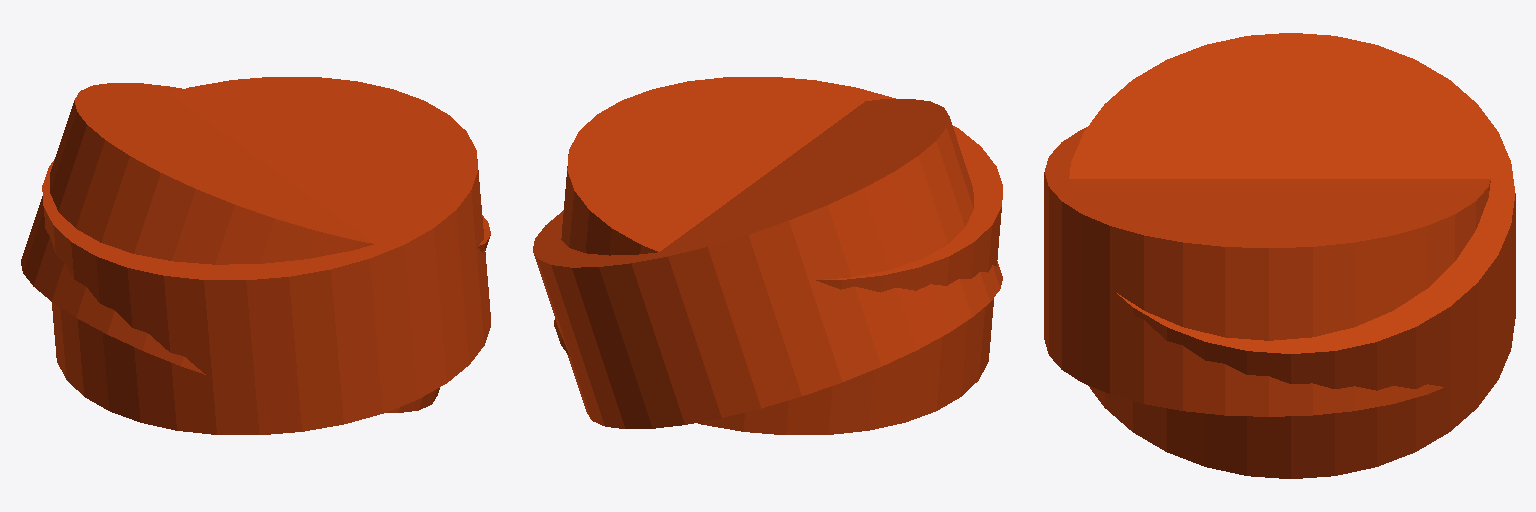
robot.urdf — piper_camera:
<?xml version="1.0"?>
<robot xmlns:xacro="http://www.ros.org/wiki/xacro" name="piper_camera">
    <mujoco>
    <compiler balanceinertia="true" discardvisual="false" meshdir="[local-path]/sim1_ws/src/piper_ros/src/piper_description/meshes"/>
    </mujoco>
    <link name="base_link">
        <inertial>
        <origin
            xyz="-0.00979274765955341 1.82905827587138E-06 0.0410100126360189"
            rpy="0 0 0" />
        <mass value="0.162548567403693" />
        <inertia
            ixx="0.000226596924525071"
            ixy="-7.33972270153965E-08"
            ixz="2.13249977802622E-06"
            iyy="0.000269444772561524"
            iyz="8.15169009611054E-09"
            izz="0.000222318258878636" />
        </inertial>
        <visual>
        <origin xyz="0 0 0" rpy="0 0 0" />
        <geometry>
            <mesh filename="package://piper_description/meshes/dae/base_link.dae" />
        </geometry>
        <material name="">
            <color rgba="0.792156862745098 0.819607843137255 0.933333333333333 1" />
        </material>
        </visual>
        <collision>
            <origin xyz="0 0 0" rpy="0 0 0" />
            <geometry>
                <mesh filename="package://piper_description/meshes/base_link.STL" />
            </geometry>
        </collision>
    </link>

    <link name="link1">
        <inertial>
        <origin
            xyz="0.00131676031927024 0.000310288842008612 -0.00922874512303437"
            rpy="0 0 0" />
        <mass value="0.0978679932242825" />
        <inertia
            ixx="7.76684558296782E-05"
            ixy="1.09084650459924E-07"
            ixz="-1.9748053243241E-06"
            iyy="9.24967780161547E-05"
            iyz="9.91284646834582E-07"
            izz="8.24589062407807E-05" />
        </inertial>
        <visual>
        <origin xyz="0 0 0" rpy="0 0 0" />
        <geometry>
            <mesh filename="package://piper_description/meshes/dae/link1.dae" />
        </geometry>
        <material name="">
            <color rgba="0.792156862745098 0.819607843137255 0.933333333333333 1" />
        </material>
        </visual>
        <collision>
            <origin xyz="0 0 0" rpy="0 0 1.5708" />
            <geometry>
                <mesh filename="package://piper_description/meshes/link1.STL" />
            </geometry>
        </collision>
    </link>
    <joint name="joint1" type="revolute">
        <origin xyz="0 0 0.123" rpy="0 0 -1.5708" />
        <parent link="base_link" />
        <child link="link1" />
        <axis xyz="0 0 1" />
        <limit lower="-2.618" upper="2.618" effort="100" velocity="3" />
    </joint>

    <link name="link2">
        <inertial>
        <origin
            xyz="0.148793602378802 -0.00242026983944119 0.00175154638467948"
            rpy="0 0 0" />
        <mass value="0.290888938633388" />
        <inertia
            ixx="0.000148959640166183"
            ixy="-7.37750384371657E-05"
            ixz="-9.68688405196236E-07"
            iyy="0.00172800946632652"
            iyz="-1.09692225564224E-06"
            izz="0.0017754628344594" />
        </inertial>
        <visual>
        <origin xyz="0 0 0" rpy="0 0 0" />
        <geometry>
            <mesh filename="package://piper_description/meshes/dae/link2.dae" />
        </geometry>
        <material name="">
            <color rgba="0.792156862745098 0.819607843137255 0.933333333333333 1" />
        </material>
        </visual>
        <collision>
            <origin xyz="0 0 0" rpy="0 0 0.1" />
            <geometry>
                <mesh filename="package://piper_description/meshes/link2.STL" />
            </geometry>
        </collision>
    </link>
    <joint name="joint2" type="revolute">
        <origin xyz="0 0 0" rpy="1.5708 -0.034907 -1.5708" />
        <parent link="link1" />
        <child link="link2" />
        <axis xyz="0 0 1" />
        <limit lower="0" upper="3.14" effort="100" velocity="3" />
    </joint>

    <link name="link3">
        <inertial>
        <origin
            xyz="-0.0996835215213704 0.0349477226691318 0.000508025815507312"
            rpy="0 0 0" />
        <mass value="0.290847697793211" />
        <inertia
            ixx="0.000107879011637167"
            ixy="2.92669521203626E-05"
            ixz="6.825922326238E-07"
            iyy="0.000214751671792086"
            iyz="-7.78469047878196E-07"
            izz="0.000241923439340319" />
        </inertial>
        <visual>
        <origin xyz="0 0 0" rpy="0 0 0" />
        <geometry>
            <mesh filename="package://piper_description/meshes/dae/link3.dae" />
        </geometry>
        <material name="">
            <color rgba="0.792156862745098 0.819607843137255 0.933333333333333 1" />
        </material>
        </visual>
        <collision>
        <origin xyz="0 0 0" rpy="0 0 -1.75" />
        <geometry>
            <mesh filename="package://piper_description/meshes/link3.STL" />
        </geometry>
        </collision>
    </link>
    <joint name="joint3" type="revolute">
        <origin xyz="0.28358 0.028726 0" rpy="0 0 0.06604341" />
        <parent link="link2" />
        <child link="link3" />
        <axis xyz="0 0 1" />
        <limit lower="-2.697" upper="0" effort="100" velocity="3" />
    </joint>

    <link name="link4">
        <inertial>
        <origin
            xyz="0.000276464622387979 -0.00102803669324875 -0.00472830700561663"
            rpy="0 0 0" />
        <mass value="0.127087348341362" />
        <inertia
            ixx="3.82011730423416E-05"
            ixy="-4.92358350897513E-08"
            ixz="4.89589432973119E-08"
            iyy="4.87048555222578E-05"
            iyz="6.70802942500512E-08"
            izz="4.10592077565559E-05" />
        </inertial>
        <visual>
        <origin xyz="0 0 0" rpy="0 0 0" />
        <geometry>
            <mesh filename="package://piper_description/meshes/dae/link4.dae" />
        </geometry>
        <material name="">
            <color rgba="0.792156862745098 0.819607843137255 0.933333333333333 1" />
        </material>
        </visual>
        <collision>
        <origin xyz="0 0 0" rpy="0 0 0" />
        <geometry>
            <mesh filename="package://piper_description/meshes/link4.STL" />
        </geometry>
        </collision>
    </link>
    <joint name="joint4" type="revolute">
        <origin xyz="-0.24221 0.068514 0" rpy="-1.5708 0 1.3826" />
        <parent link="link3" />
        <child link="link4" />
        <axis xyz="0 0 1" />
        <limit lower="-1.832" upper="1.832" effort="100" velocity="3" />
    </joint>

    <link name="link5">
        <inertial>
        <origin
            xyz="8.82262433516967E-05 0.0566829014808256 -0.00196119720482461"
            rpy="0 0 0" />
        <mass value="0.144711242639457" />
        <inertia
            ixx="4.39644313662493E-05"
            ixy="-3.59259686444846E-08"
            ixz="-1.89747741386183E-08"
            iyy="5.63173920951307E-05"
            iyz="-2.1540716689785E-07"
            izz="4.88713664675268E-05" />
        </inertial>
        <visual>
        <origin xyz="0 0 0" rpy="0 0 0" />
        <geometry>
            <mesh filename="package://piper_description/meshes/dae/link5.dae" />
        </geometry>
        <material name="">
            <color rgba="0.792156862745098 0.819607843137255 0.933333333333333 1" />
        </material>
        </visual>
        <collision>
        <origin xyz="0 0 0" rpy="0 0 -3.14" />
        <geometry>
            <mesh filename="package://piper_description/meshes/link5.STL" />
        </geometry>
        </collision>
    </link>
    <joint name="joint5" type="revolute">
        <origin xyz="0 0 0" rpy="1.5708 0 0" />
        <parent link="link4" />
        <child link="link5" />
        <axis xyz="0 0 1" />
        <limit lower="-1.22" upper="1.22" effort="100" velocity="3" />
    </joint>

    <link name="link6">
        <inertial>
        <origin
            xyz="0.00103120214523473 0.0121761387587524 0.0315480874960164"
            rpy="0 0 0" />
        <mass value="0.195187143240719" />
        <inertia
            ixx="6.43790256535539E-05"
            ixy="-1.2366166157046E-06"
            ixz="1.97664606328472E-07"
            iyy="0.000126146396374301"
            iyz="2.41157078516408E-06"
            izz="0.000154087076816444" />
        </inertial>
        <visual>
        <origin xyz="-0.002 -0.008 0" rpy="-1.57 0 0" />
        <geometry>
            <mesh filename="package://piper_description/meshes/dae/camera_v3.dae"/>
        </geometry>
        <material name="">
            <color rgba="0.792156862745098 0.819607843137255 0.933333333333333 1" />
        </material>
        </visual>
        <collision>
        <origin xyz="-0.002 -0.008 0" rpy="-1.57 0 0" />
        <geometry>
            <mesh filename="package://piper_description/meshes/dae/camera_v3.dae"/>
        </geometry>
        </collision>
    </link>
    <joint name="joint6" type="revolute">
        <origin xyz="0 0.091 0.0014165" rpy="-1.5708 -1.5708 0" />
        <parent link="link5" />
        <child link="link6" />
        <axis xyz="0 0 1" />
        <limit lower="-3.14" upper="3.14" effort="100" velocity="3" />
    </joint>

    <link name="camera_base">
        <visual>
            <geometry>
                <cylinder radius="0.1" length="0.08" />
            </geometry>
            <origin xyz="0 0 0" rpy="0 0 0" />
            <material name="yellow">
                <color rgba="0.8 0.3 0.1 0.5" />
            </material>
        </visual>
    </link>

    <joint name="camera_base2link6" type="fixed">
        <parent link="link6" />
        <child link="camera_base"/>
        <origin xyz="0.0 0.075 0.03" rpy="-1.5708 -1.5708 0 " />
    </joint>

    <link name="camera_link">
        <visual>
            <geometry>
                <cylinder radius="0.1" length="0.08" />
            </geometry>
            <origin xyz="0 0 0" rpy="0 0 0" />
            <material name="yellow">
                <color rgba="0.8 0.3 0.1 0.5" />
            </material>
        </visual>
    </link>

    <joint name="camera_link2camera_base" type="fixed">
        <parent link="camera_base" />
        <child link="camera_link"/>
        <origin xyz="0.0 0.01 0" rpy="0.0 0.45 0 " />
    </joint>

    <link name="link7">
        <inertial>
        <origin
            xyz="-0.000277778383727112 -0.0467673043650824 -0.00921029491873201"
            rpy="0 0 0" />
        <mass value="0.02648229234527" />
        <inertia
            ixx="9.99787479924589E-06"
            ixy="-1.57548495096104E-07"
            ixz="-2.71342775003487E-08"
            iyy="6.1795212293655E-06"
            iyz="-1.58939803580081E-06"
            izz="1.42102717246564E-05" />
        </inertial>
        <visual>
        <origin xyz="0 0 0" rpy="0 0 0" />
        <geometry>
            <mesh filename="package://piper_description/meshes/dae/link7.dae" />
        </geometry>
        <material name="">
            <color rgba="0.792156862745098 0.819607843137255 0.933333333333333 1" />
        </material>
        </visual>
        <collision>
        <origin xyz="-0.001 0 0.0003" rpy="0 3.14 0" />
        <geometry>
            <mesh filename="package://piper_description/meshes/link7.STL" />
        </geometry>
        </collision>
    </link>
    <joint name="joint7" type="prismatic">
        <origin xyz="0 0 0.13503" rpy="1.5708 0 1.5708" />
        <parent link="link6" />
        <child link="link7" />
        <axis xyz="0 0 -1" />
        <limit lower="0" upper="0.05" effort="10" velocity="1" />
    </joint>

    <link name="link8">
        <inertial>
        <origin
            xyz="0.000277816920932317 0.0467673824063769 -0.00921030054508036"
            rpy="0 0 0" />
        <mass value="0.0264822021416248" />
        <inertia
            ixx="9.99779119357223E-06"
            ixy="-1.57542283433504E-07"
            ixz="2.71367446701359E-08"
            iyy="6.17952441557932E-06"
            iyz="1.58939319453383E-06"
            izz="1.4210192754512E-05" />
        </inertial>
        <visual>
        <origin xyz="0 0 0" rpy="0 0 0" />
        <geometry>
            <mesh filename="package://piper_description/meshes/dae/link8.dae" />
        </geometry>
        <material name="">
            <color rgba="0.792156862745098 0.819607843137255 0.933333333333333 1" />
        </material>
        </visual>
        <collision>
        <origin xyz="-0.001 0 0.0003" rpy="3.14 0 0" />
        <geometry>
            <mesh filename="package://piper_description/meshes/link8.STL" />
        </geometry>
        </collision>
    </link>
    <joint name="joint8" type="prismatic">
        <origin xyz="0 0 0.13503" rpy="-1.5708 0 1.5708" />
        <parent link="link6" />
        <child link="link8" />
        <axis xyz="0 0 1" />
        <limit lower="-0.05" upper="0" effort="10" velocity="1" />
    </joint>


</robot>

--- Render facts (derived) ---
3 views of the same robot in one strip: view 1: azimuth 30°, elevation 25°; view 2: azimuth 150°, elevation 25°; view 3: azimuth 270°, elevation 25° (orthographic).
Model piper_camera with 11 links and 10 joints (6 revolute, 2 prismatic, 2 fixed), rooted at base_link, posed every joint at zero.
Links seen in each view (by area): view 1: camera_base, camera_link; view 2: camera_link, camera_base; view 3: camera_link, camera_base.
Link boxes in pixels (x1,y1,x2,y2): camera_base: (42,77,490,434); camera_link: (21,83,490,412); camera_link: (533,99,1002,428); camera_base: (554,77,1002,434); camera_link: (1069,33,1515,478); camera_base: (1044,127,1490,416).
Size in the robot's own frame: 0.2154 by 0.21 by 0.1458 metres.
0 mesh visuals loaded from 9 distinct referenced files (none loaded); not drawn: 9 (reference not matched to a file when rendering).